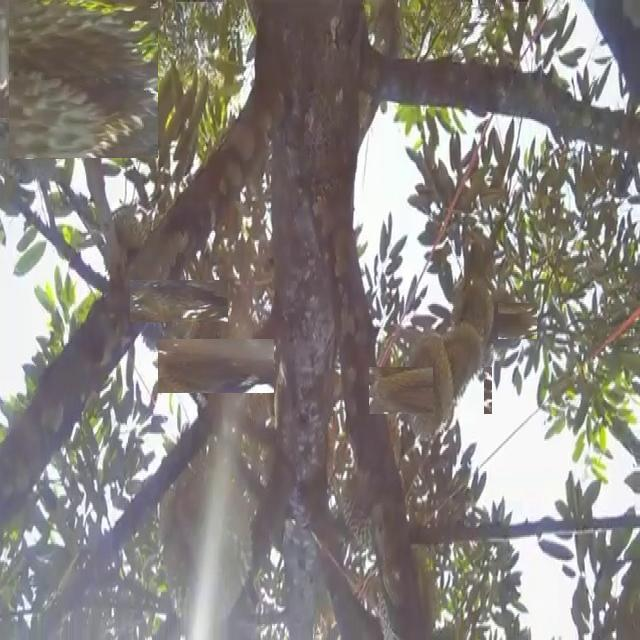durian: (5, 0, 161, 156), (157, 443, 255, 635), (173, 323, 259, 408), (388, 348, 473, 433), (433, 314, 484, 418), (144, 266, 215, 337), (341, 466, 388, 565), (0, 103, 56, 174), (473, 294, 528, 349), (459, 279, 498, 355)
